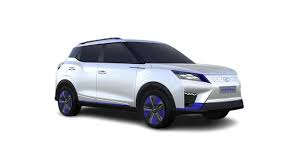XUV 400: (53, 35, 246, 130)
